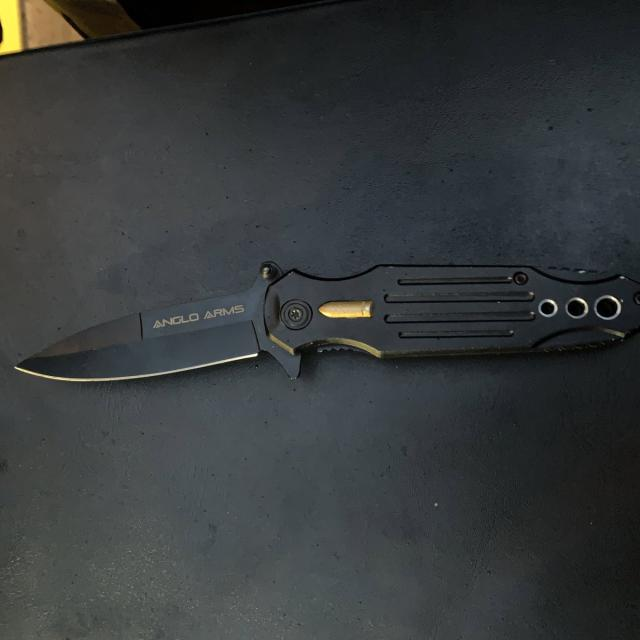Sharp-Object: (12, 260, 640, 384)
